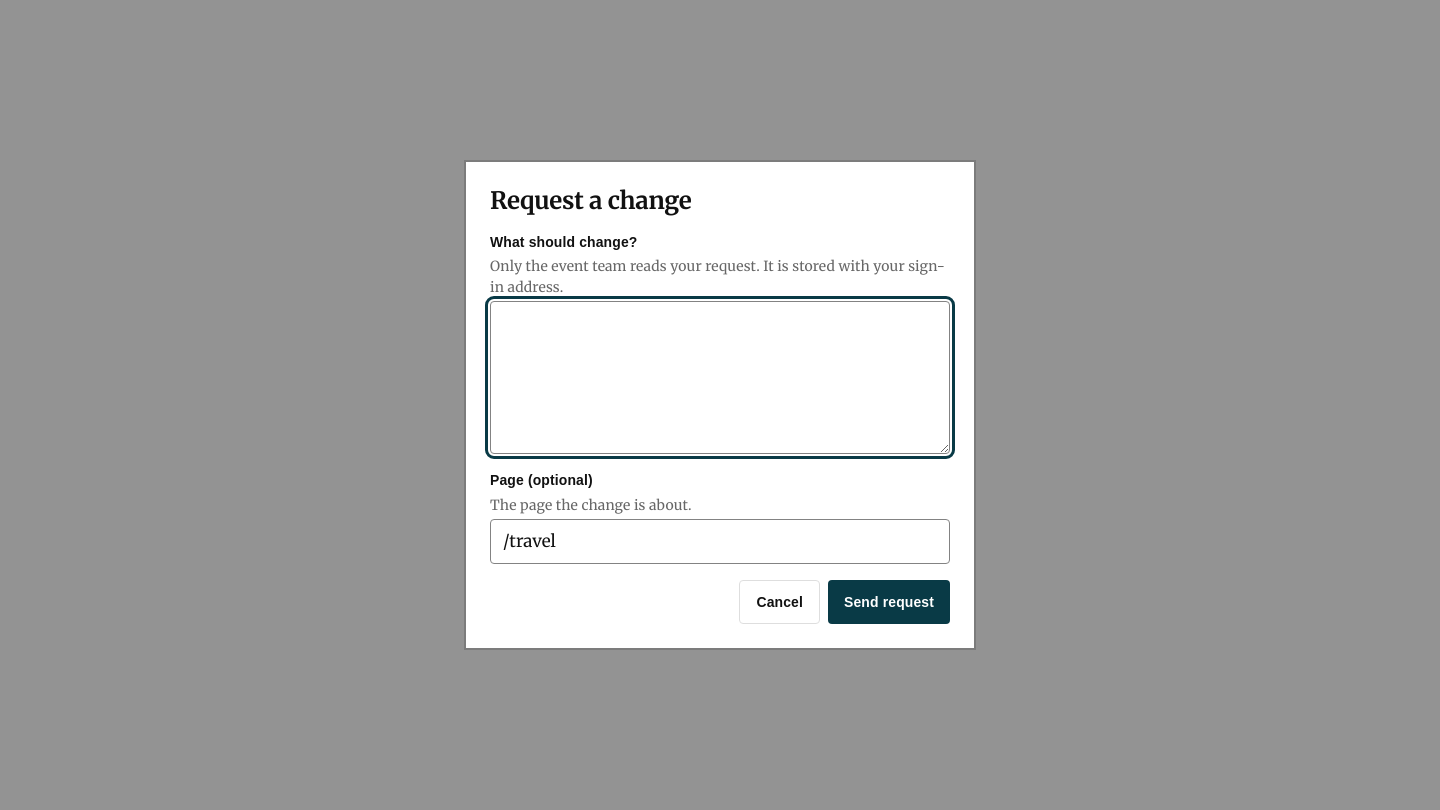
ChangeRequestModal › sends the message, the page, and a key with the signed-in user, and states the receipt
In the text box labelled "What should change?": (720, 378) left=490, top=301, right=950, bottom=454, type "  The hotel is wrong.  "
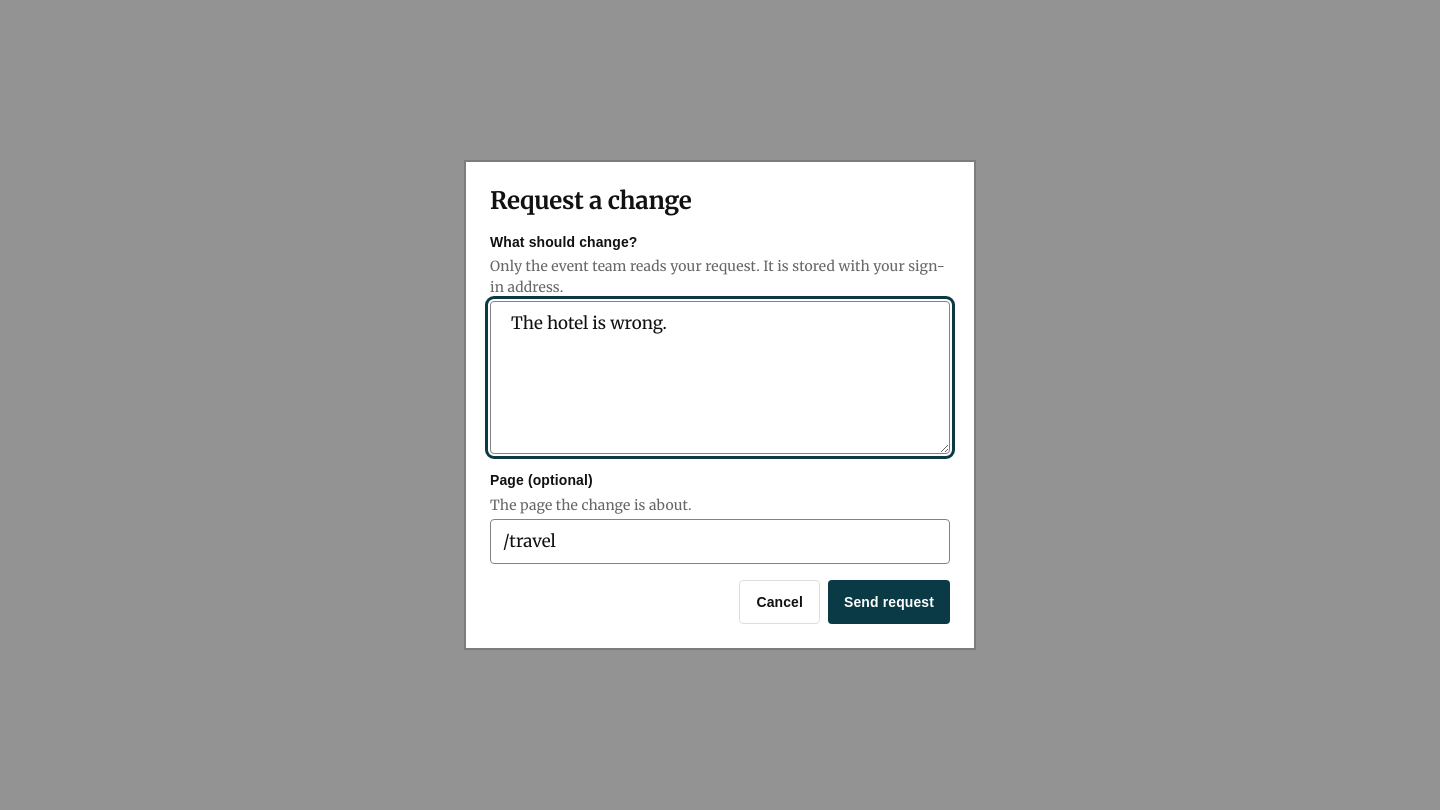
Click the button "Send request": (889, 602) left=828, top=580, right=950, bottom=624
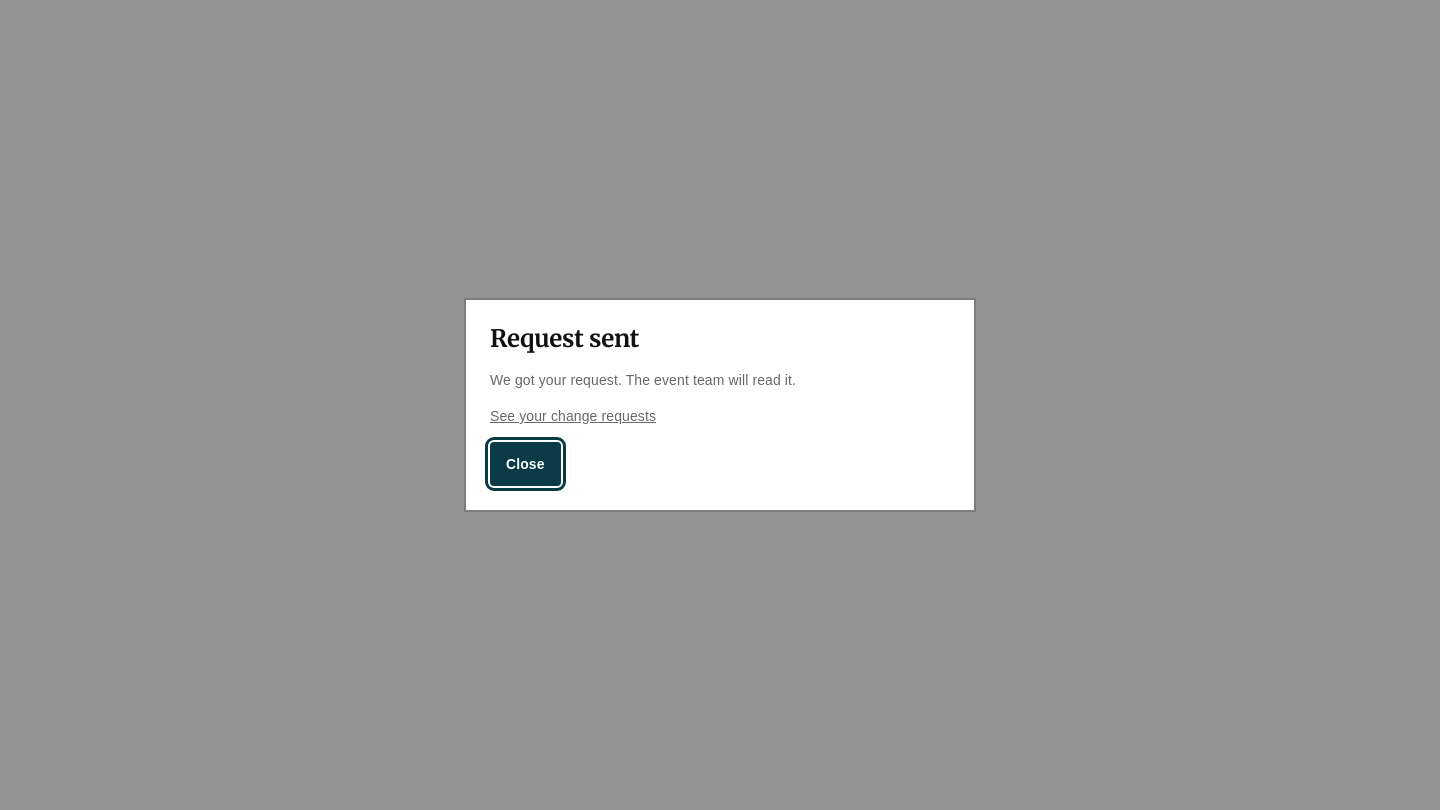
Expected: the message reads "We got your request. The event team will read it.", left=490, top=372, right=796, bottom=388
